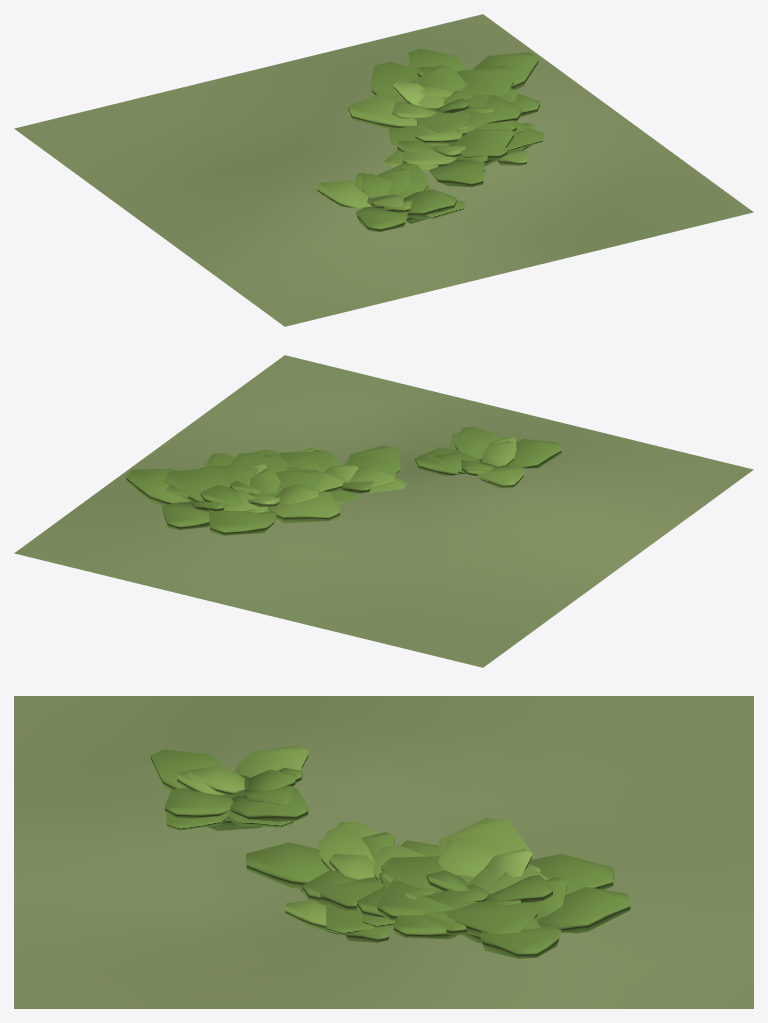
The model's file is master_grass_lush_00.glb.
3 views of the same model, one above another, from view 1: azimuth 30°, elevation 25°; view 2: azimuth 150°, elevation 25°; view 3: azimuth 270°, elevation 25° (orthographic). The views are drawn at different scales.
Parts seen in each view (by area): view 1: master_grass_lush_00; view 2: master_grass_lush_00; view 3: master_grass_lush_00.
Part boxes in pixels (<box>): master_grass_lush_00: <box>14,14,753,326</box>; master_grass_lush_00: <box>14,355,753,667</box>; master_grass_lush_00: <box>14,696,753,1008</box>.
Size of the model in its own units: 1.35 by 0.1162 by 1.35.
